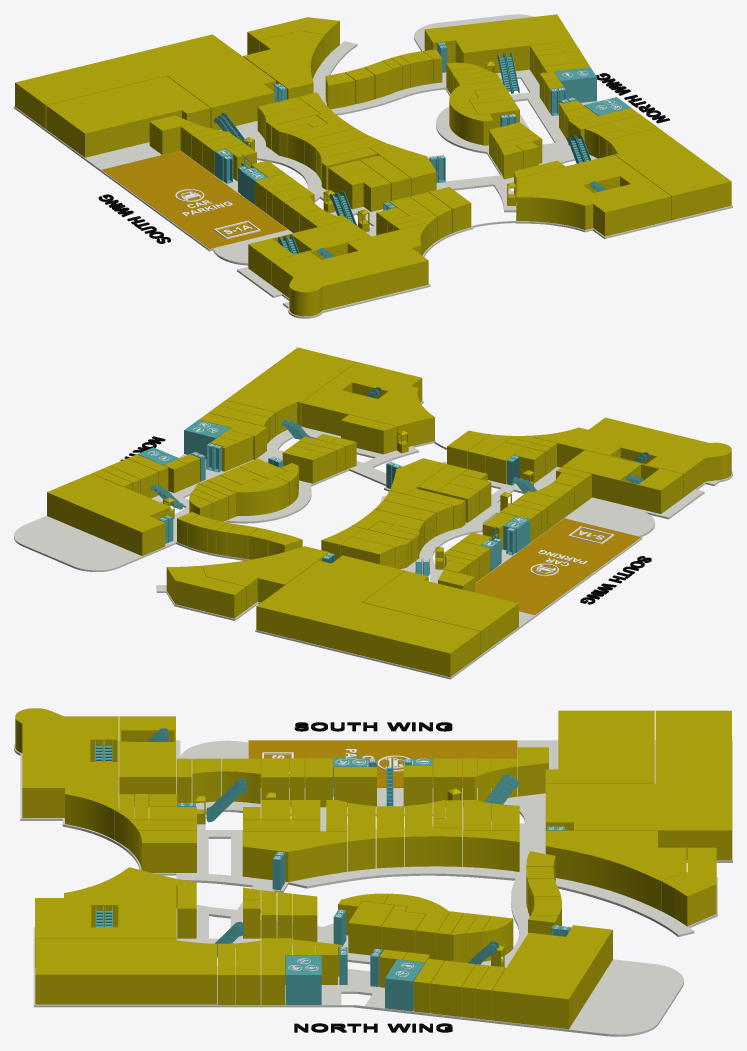
The model's file is floor-1.gltf.
The picture shows the model from 3 angles, top to bottom: view 1: azimuth 30°, elevation 25°; view 2: azimuth 150°, elevation 25°; view 3: azimuth 270°, elevation 25°; orthographic projection. The views are drawn at different scales.
Visible parts, largest first — view 1: Line346, Line005, Line015, Line047, Line328, Line006, Line059, Line033, Line014, Rectangle003, Line023, Line024 (+38 smaller); view 2: Line005, Line346, Line328, Line047, Line015, Line033, Line006, Line059, Rectangle003, Line014, Line023, Line041 (+40 smaller); view 3: Line346, Line005, Line059, Line015, Line033, Line047, Line014, Line006, Line328, Line024, Rectangle003, Line023 (+54 smaller).
Boxes of the visible parts, <box> form: Line346: <box>14,14,732,318</box>; Line005: <box>15,34,276,129</box>; Line015: <box>271,224,428,316</box>; Line047: <box>516,154,671,236</box>; Line328: <box>102,150,287,248</box>; Line006: <box>46,76,210,157</box>; Line059: <box>607,128,731,220</box>; Line033: <box>424,14,573,73</box>; Line014: <box>243,31,324,99</box>; Rectangle003: <box>248,219,371,284</box>; Line023: <box>247,17,339,58</box>; Line024: <box>369,143,436,195</box>; Line005: <box>256,555,480,677</box>; Line346: <box>14,401,732,679</box>; Line328: <box>475,518,640,614</box>; Line047: <box>301,362,434,446</box>; Line015: <box>533,417,731,497</box>; Line033: <box>47,473,170,555</box>; Line006: <box>362,571,518,654</box>; Line059: <box>226,347,356,435</box>; Rectangle003: <box>562,450,683,513</box>; Line014: <box>202,546,329,609</box>; Line023: <box>166,565,245,618</box>; Line041: <box>207,475,288,516</box>; Line346: <box>14,740,732,1036</box>; Line005: <box>545,710,731,860</box>; Line059: <box>35,938,217,1004</box>; Line015: <box>15,708,118,839</box>; Line033: <box>492,925,612,1029</box>; Line047: <box>35,867,176,967</box>; Line014: <box>545,830,686,910</box>; Line006: <box>545,710,654,783</box>; Line328: <box>248,740,517,787</box>; Line024: <box>242,831,347,881</box>; Rectangle003: <box>119,716,175,806</box>; Line023: <box>661,847,716,926</box>.
Bounding box in the file's own units: 81.77 × 4.77 × 79.48.
